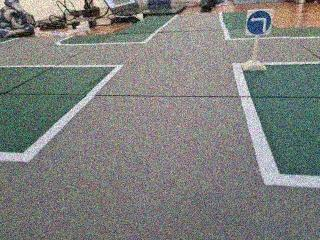left: (242, 6, 275, 39)
